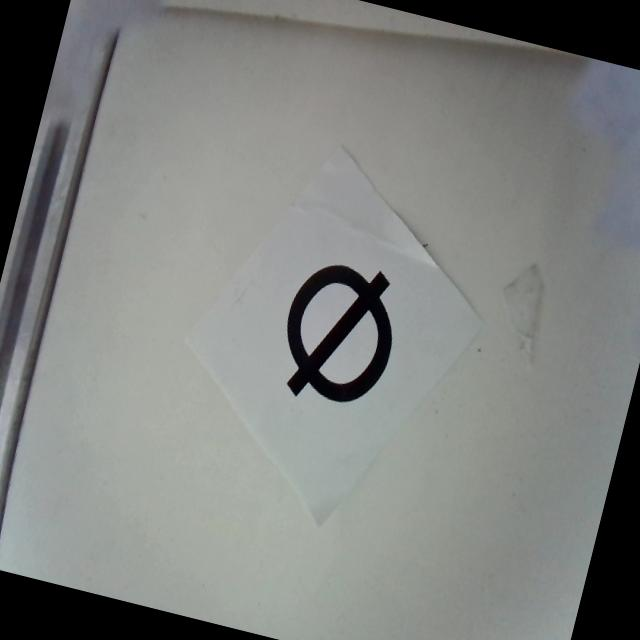F: (269, 250, 408, 416)
